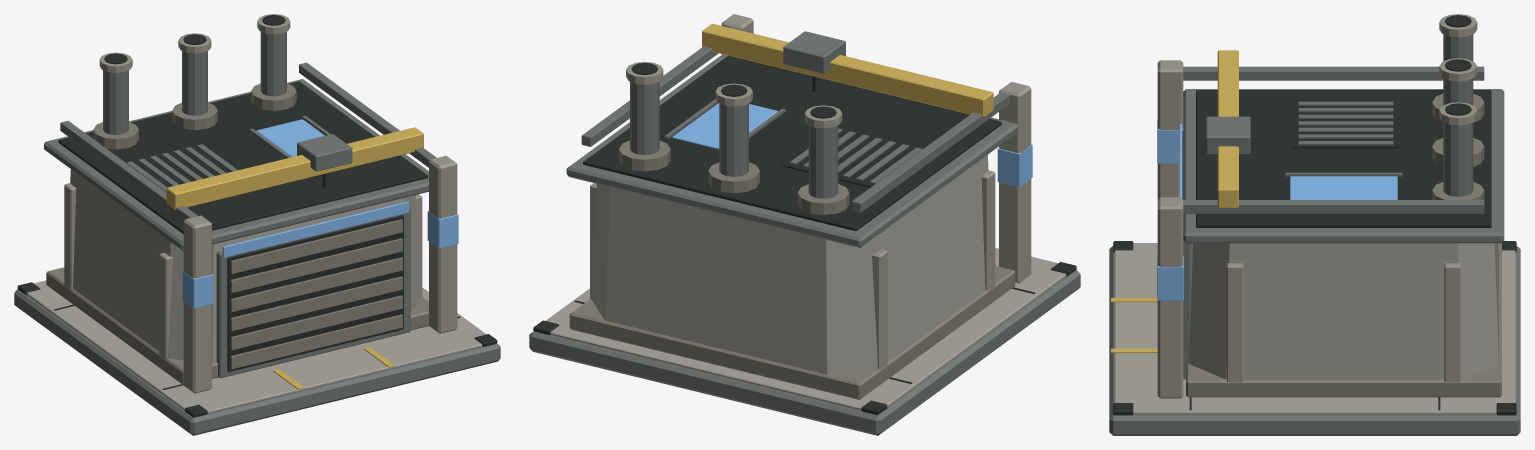
Rendered from vehicle_plant.glb.
3 renders of one model, left to right at view 1: azimuth 30°, elevation 25°; view 2: azimuth 150°, elevation 25°; view 3: azimuth 270°, elevation 25°, orthographic. The views are drawn at different scales.
Parts seen in each view (by area): view 1: vehicle_plant; view 2: vehicle_plant; view 3: vehicle_plant.
Boxes of the visible parts, x1,y1,x2,y2 form: vehicle_plant: (14,14,500,435); vehicle_plant: (529,14,1080,435); vehicle_plant: (1109,14,1520,435).
Size of the model in its own units: 3.7 by 2.84 by 3.7.
